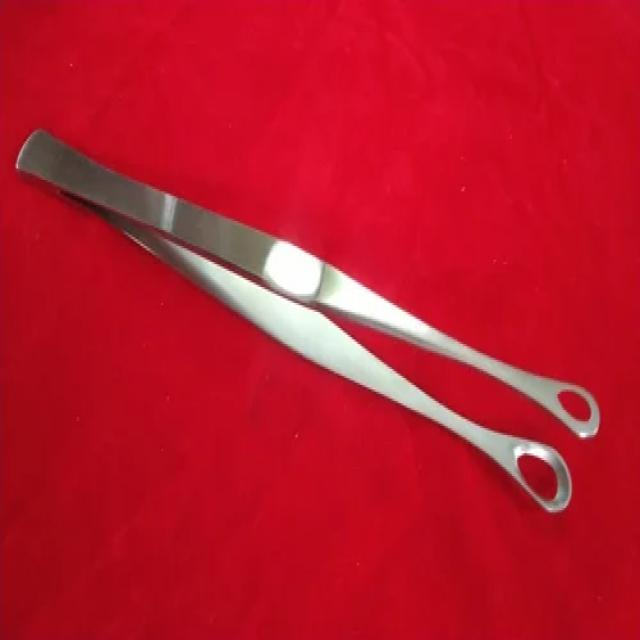Eye Intestinal Forceps: (14, 118, 602, 524)
